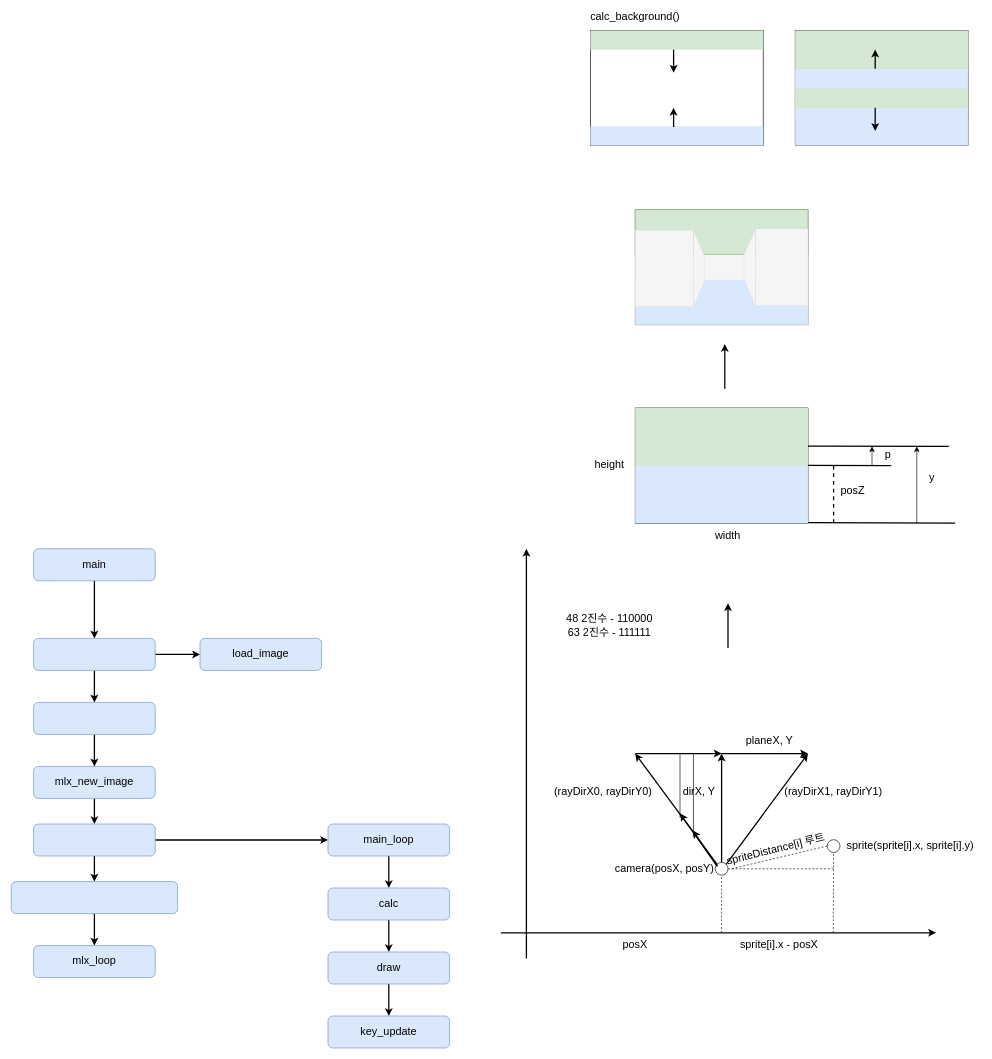
The diagram is 992 pixels wide and 1059 high, and some of its shapes have lost their labels. The centre of each missing label's shape, as x and y in pixels:
load_texture: the point at 94,654
mlx_hook(KEY_press) mlx_hook(KEY_release): the point at 94,897
mlx_loop_hook: the point at 94,839
mlx_new_window: the point at 94,718
